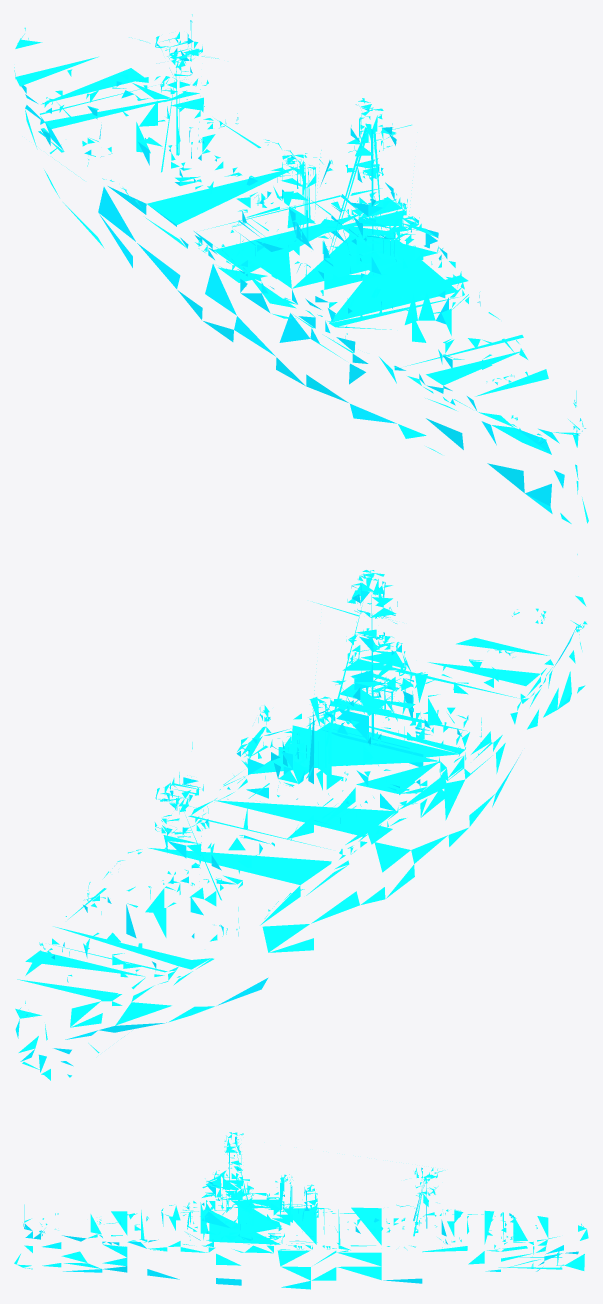
File: New_York.glb
3 renders of one model, top to bottom at view 1: azimuth 30°, elevation 25°; view 2: azimuth 150°, elevation 25°; view 3: azimuth 270°, elevation 25°, orthographic. The views are drawn at different scales.
Size of the model in its own units: 2.15 by 3.14 by 11.66.
